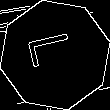L_E: (27, 34, 83, 76)
